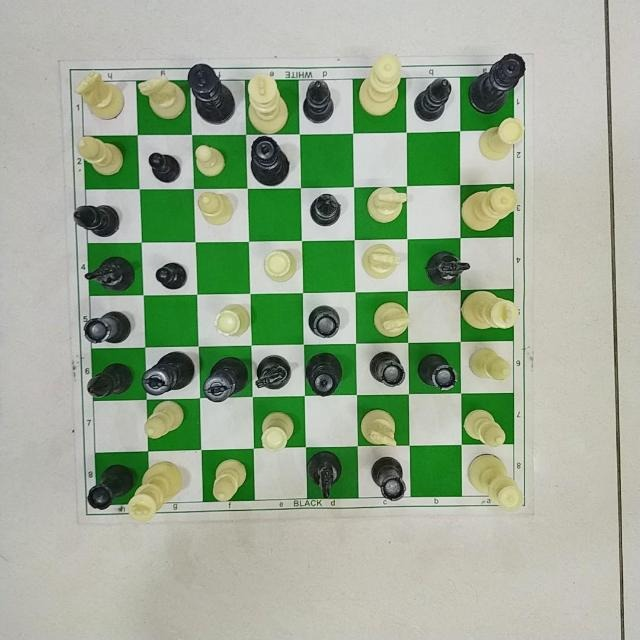black-bishop: (86, 363, 134, 399), (413, 78, 451, 122), (73, 203, 120, 237), (303, 79, 335, 123), (310, 192, 342, 226)
black-king: (187, 62, 235, 123), (142, 350, 194, 395), (205, 356, 247, 402)
black-knight: (80, 249, 146, 297), (307, 449, 343, 498), (426, 250, 469, 286), (255, 354, 291, 390)
black-pawn: (148, 152, 182, 182), (156, 260, 188, 288)
black-queen: (467, 50, 529, 113), (250, 136, 292, 186), (304, 352, 344, 396)
black-rook: (86, 464, 131, 510), (371, 454, 407, 503), (418, 352, 460, 392), (83, 310, 131, 343), (370, 350, 406, 390), (308, 305, 340, 337)
white-bishop: (77, 135, 123, 177), (144, 400, 190, 440), (464, 407, 508, 447), (212, 458, 249, 502), (469, 346, 515, 381), (197, 192, 233, 225)
white-king: (128, 460, 181, 522), (246, 72, 289, 134), (461, 291, 518, 330)
white-knight: (76, 72, 126, 121), (137, 76, 183, 124), (361, 407, 403, 447), (366, 186, 407, 222), (375, 301, 411, 337), (360, 243, 399, 276)
white-pawn: (194, 146, 226, 176)
white-queen: (466, 453, 526, 511), (358, 51, 401, 115), (461, 186, 517, 232)
white-rook: (480, 117, 523, 162), (261, 411, 297, 452), (214, 302, 250, 338), (264, 249, 298, 282)
